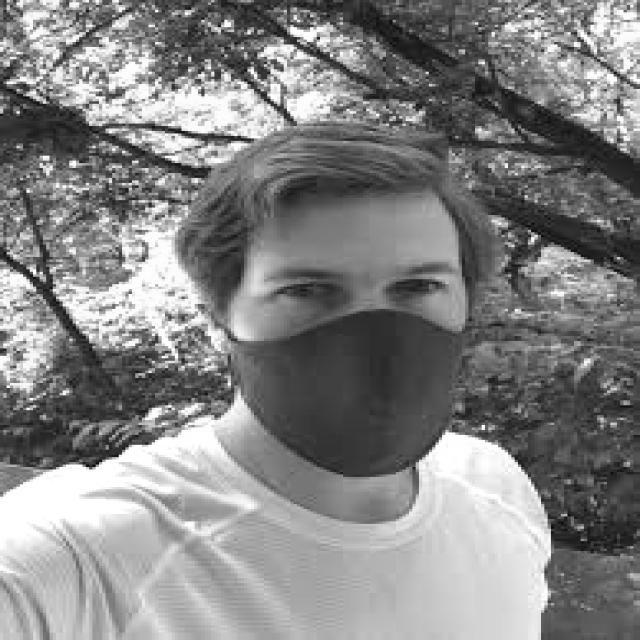fake: (221, 308, 468, 480)
real: (235, 196, 473, 485)
